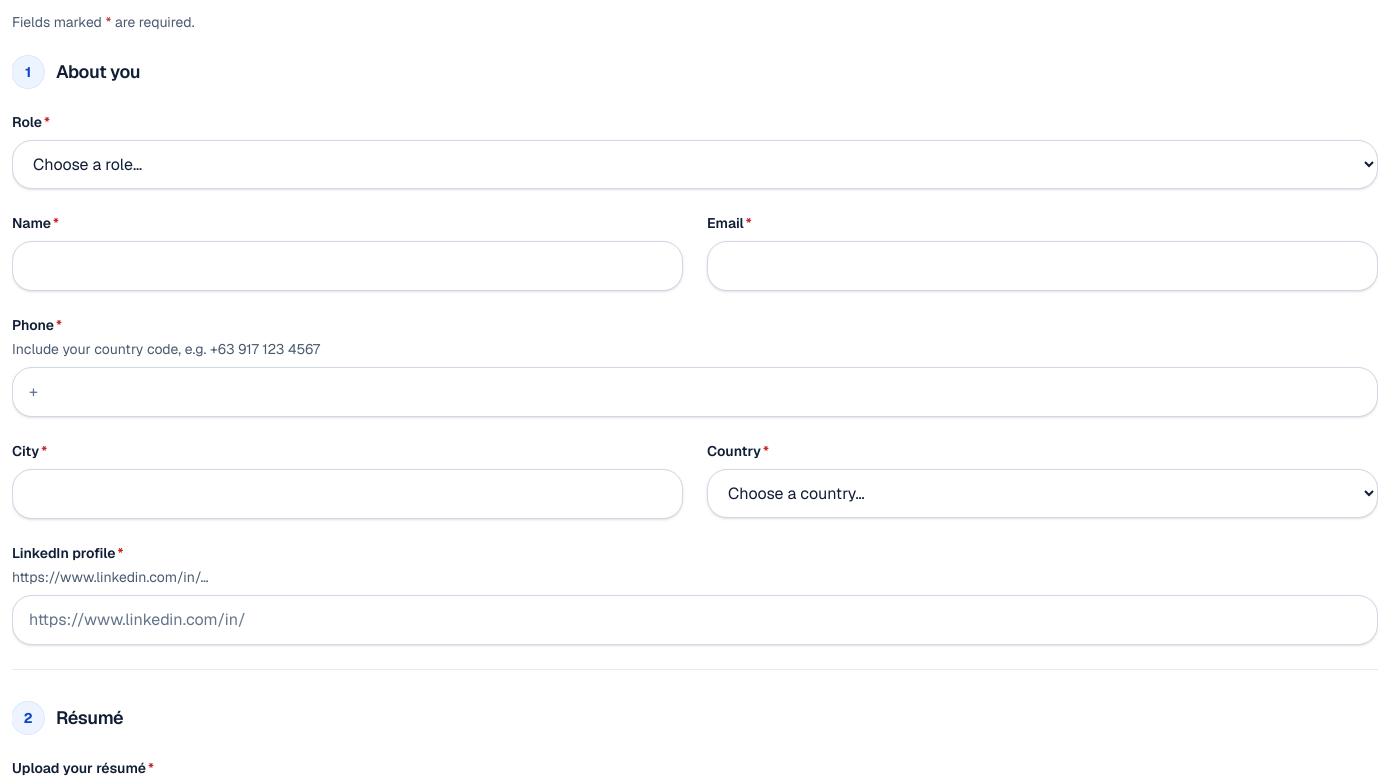
Test: CandidateApplicationForm › notes U.S. eligibility only for roles that exclude the United States
Select "United States" in the dropdown labelled "Country*" at (1042, 494), box [707,469,1378,518]
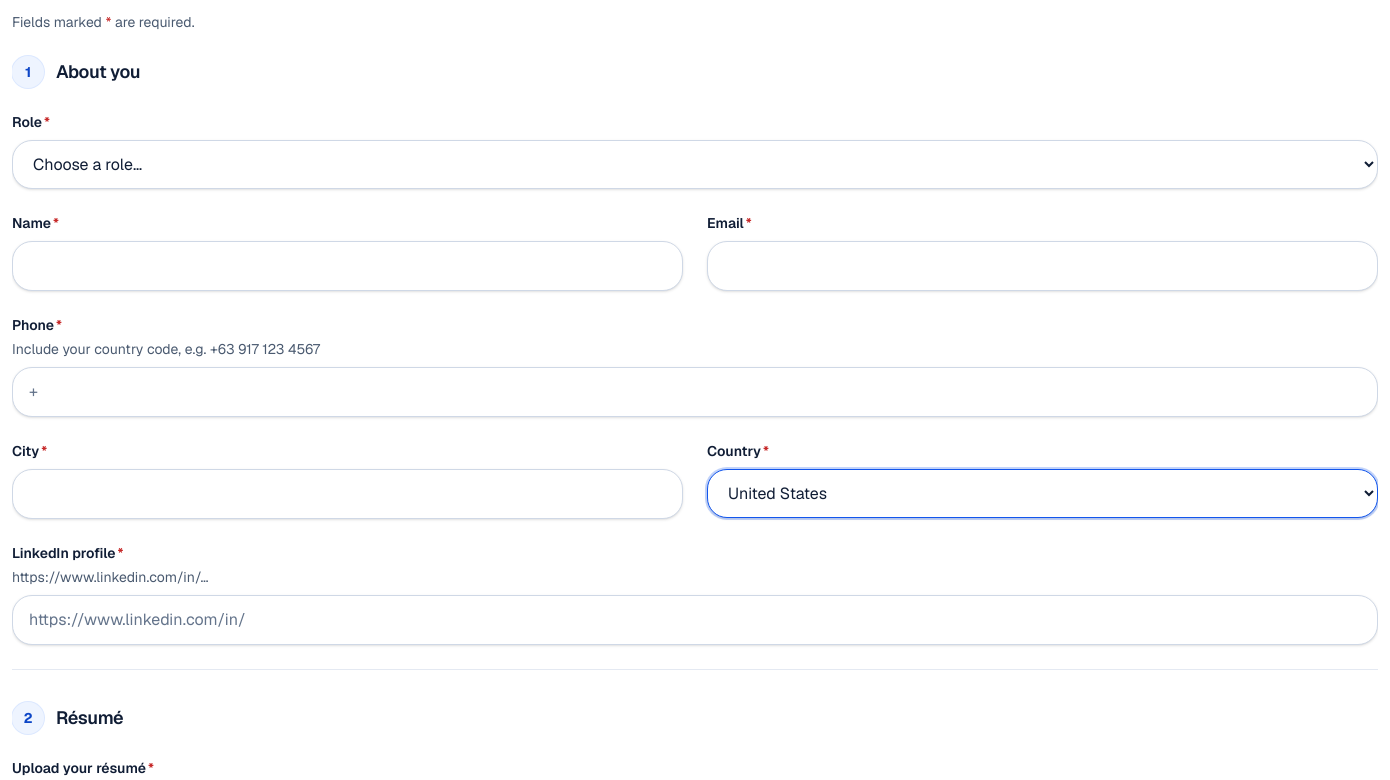
Expected: the text "open to candidates based outside the United States" is not shown
Select "International Role" in the dropdown labelled "Role*" at (695, 164), box [12,140,1378,189]
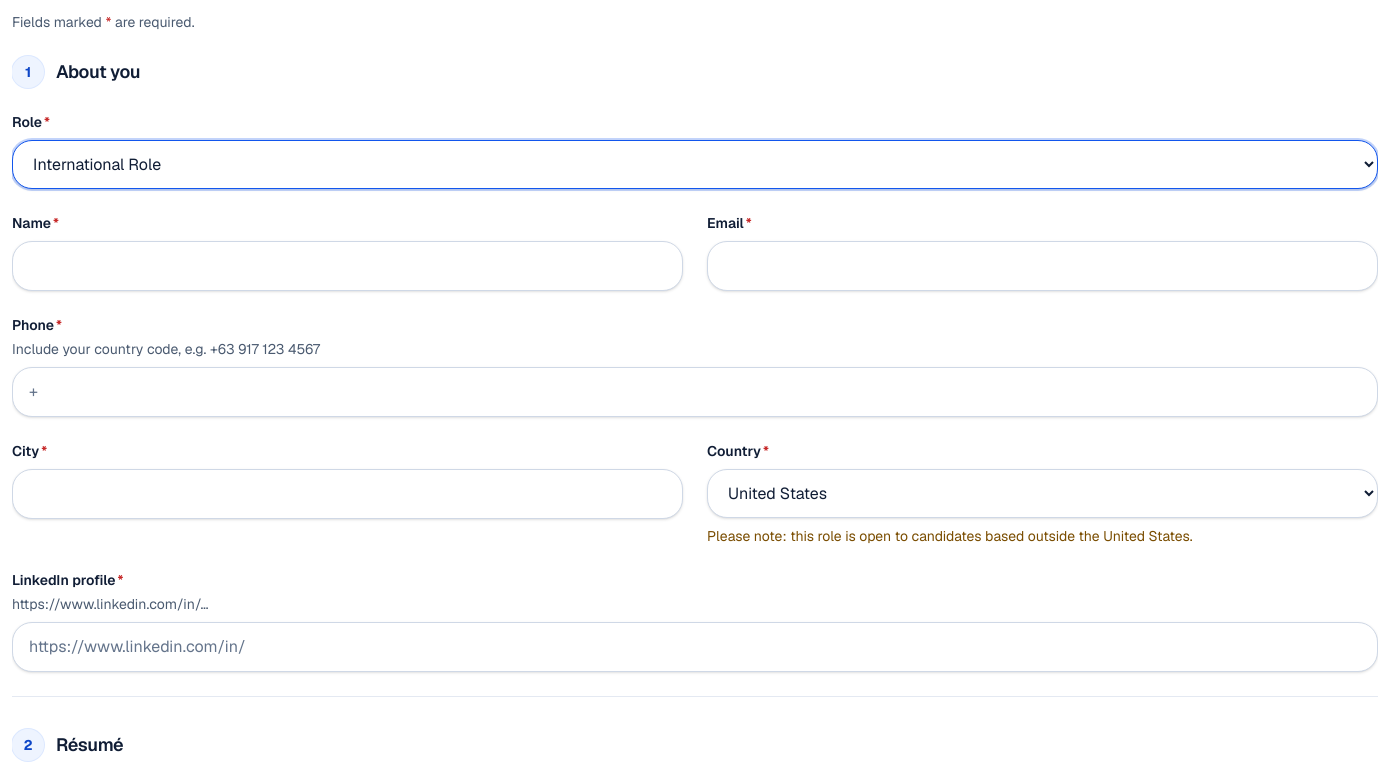
Now the text "Please note: this role is open to candidates based outside the United States." is shown, box [707,527,1192,545]
Select "Americas Role" in the dropdown labelled "Role*" at (695, 164), box [12,140,1378,189]
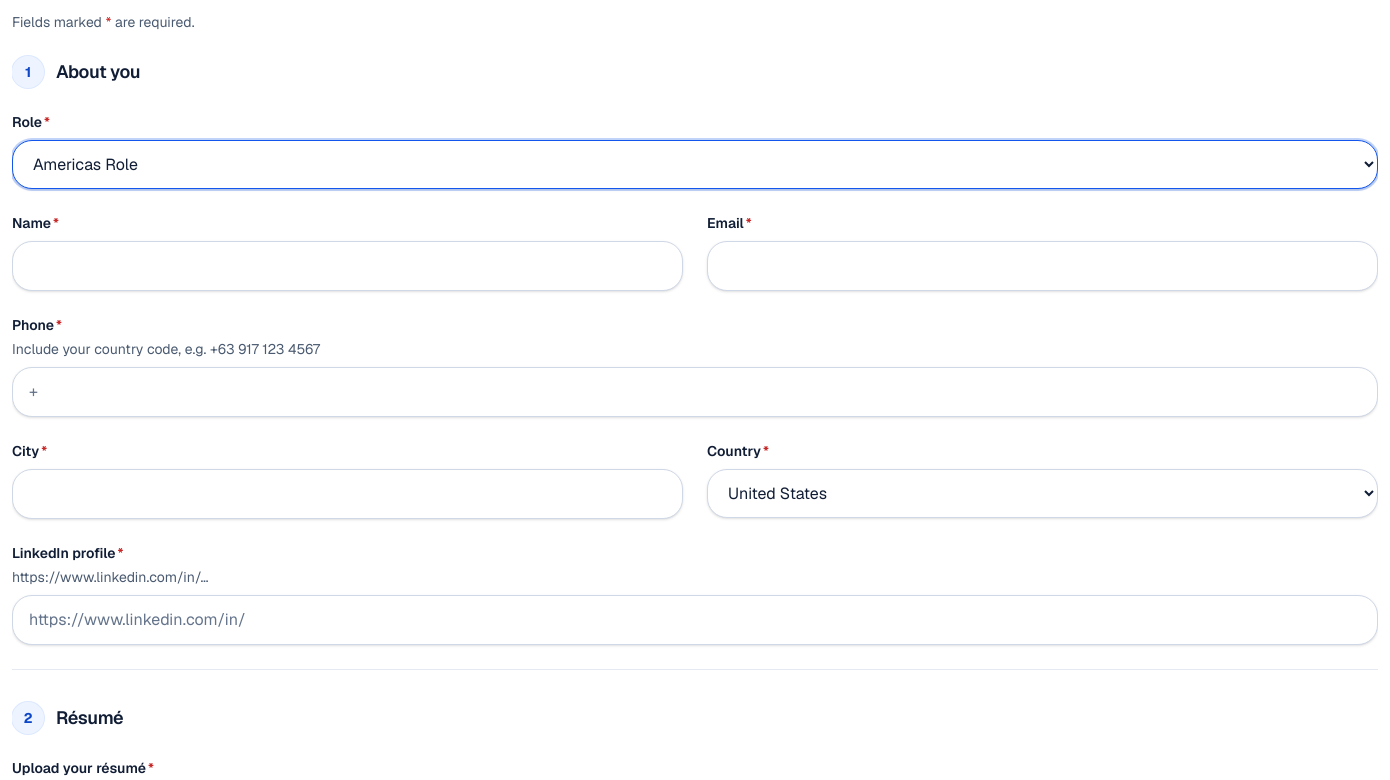
Now the text "open to candidates based outside the United States" is gone
